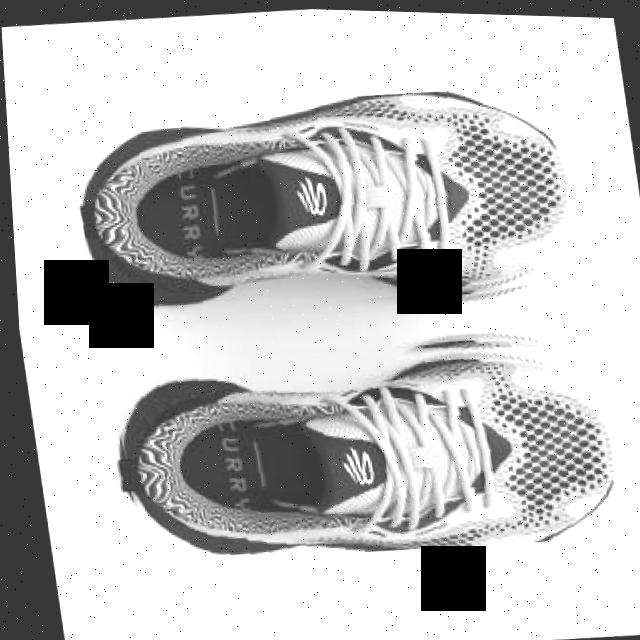shoe: (98, 305, 623, 575), (63, 68, 591, 331)
